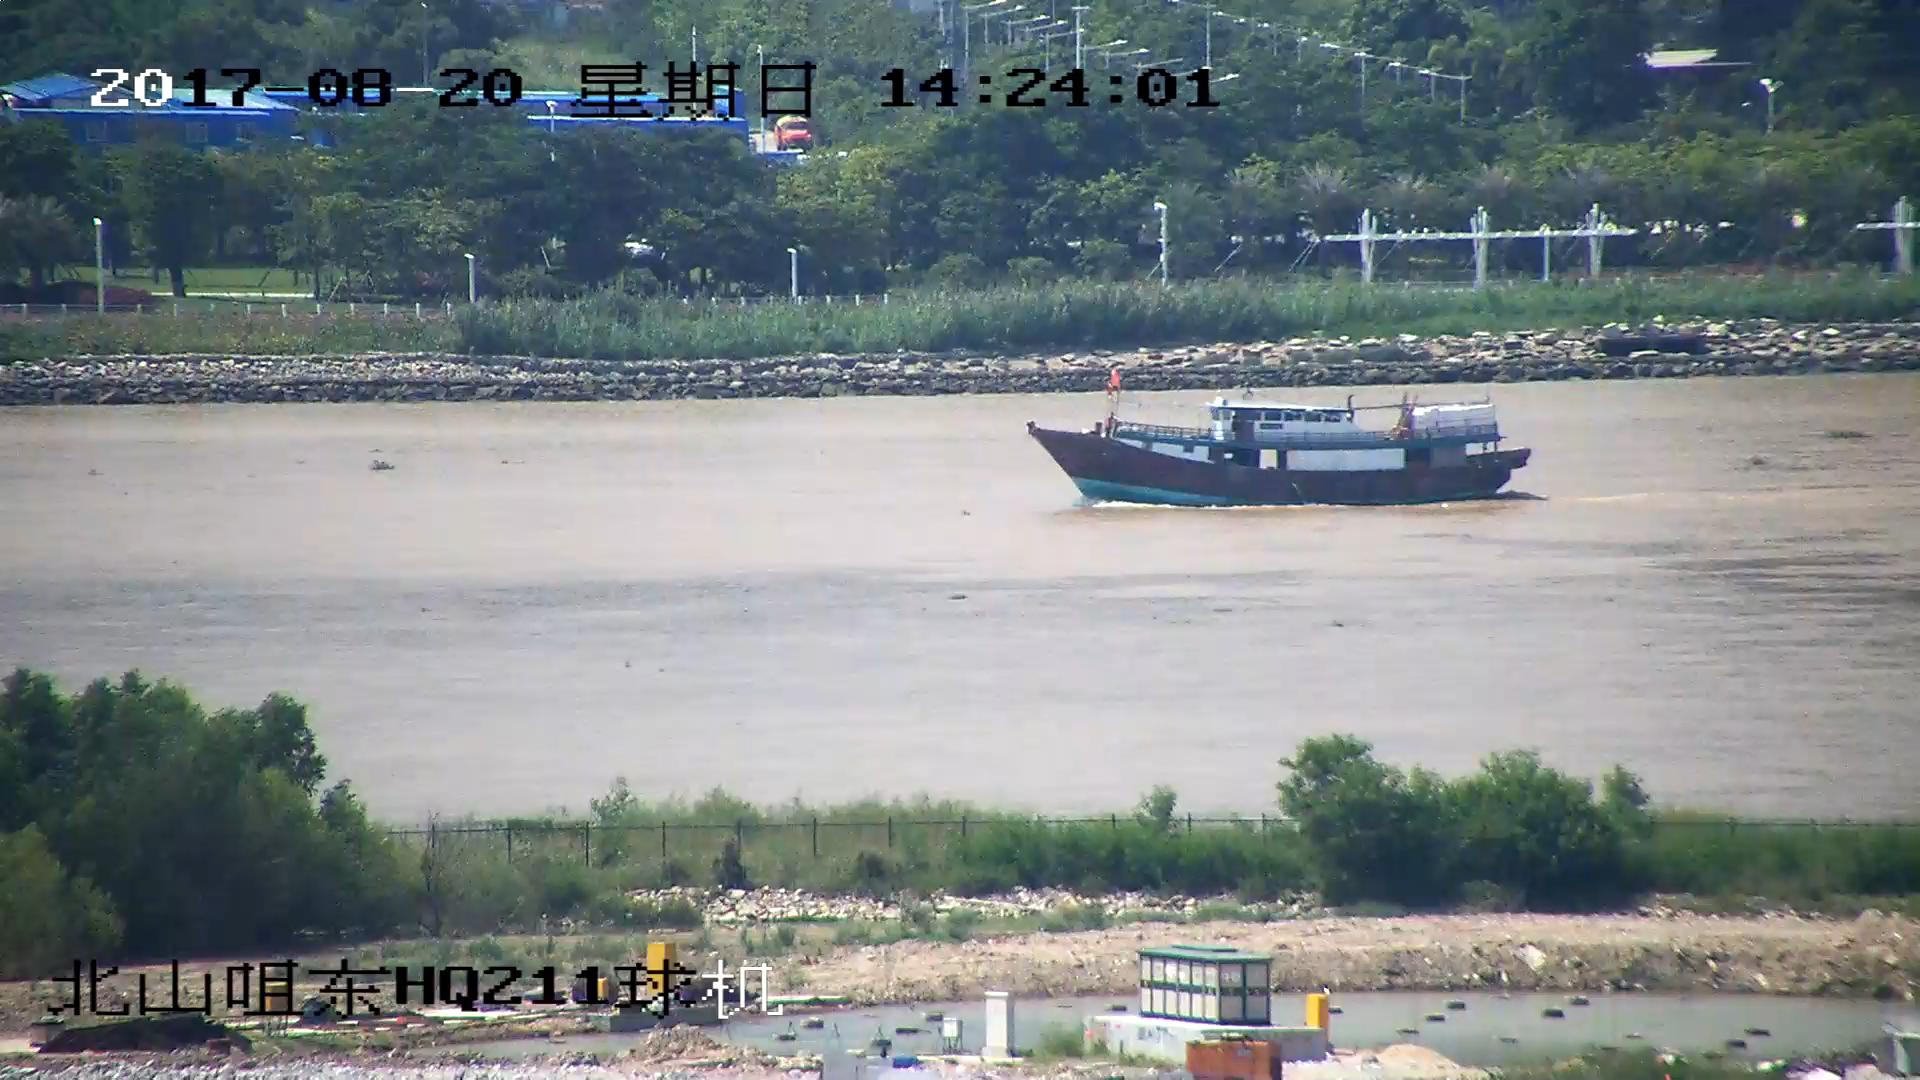fishing boat: (1028, 389, 1529, 506)
